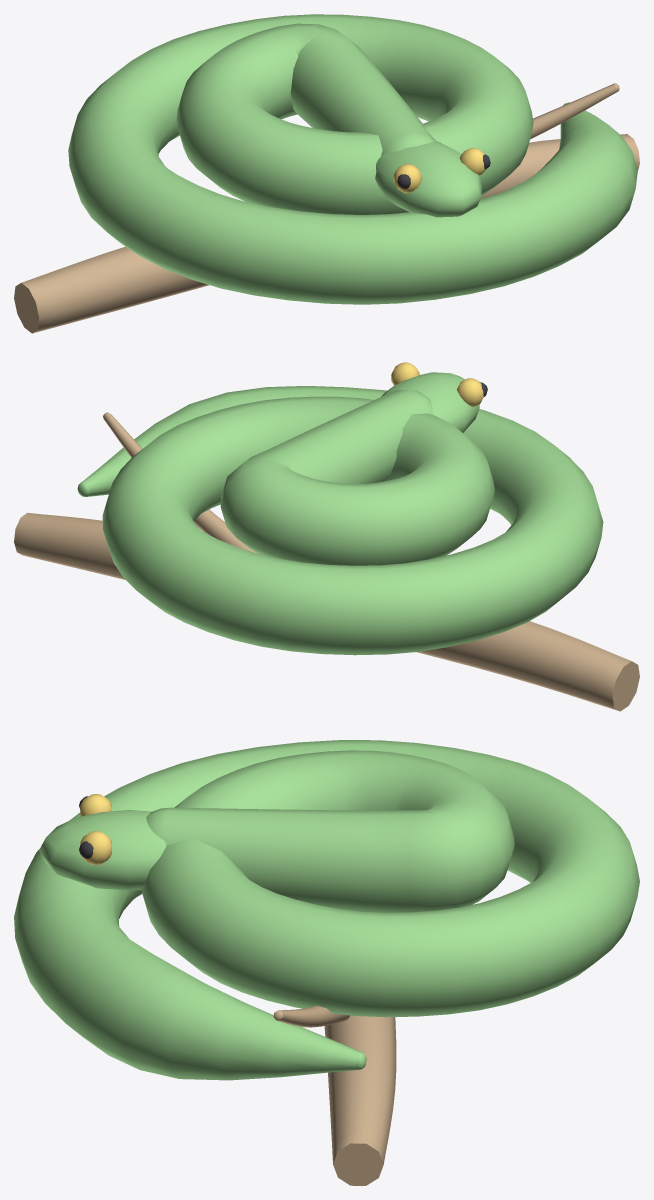
Rendered from reptiles-amphibians-and-minibeasts-green-mamba-on-bran-e0d000cf__22440.glb.
3 renders of one model, top to bottom at view 1: azimuth 30°, elevation 25°; view 2: azimuth 150°, elevation 25°; view 3: azimuth 270°, elevation 25°, orthographic. The views are drawn at different scales.
Visible parts, largest first — view 1: green-mamba-on-branch; view 2: green-mamba-on-branch; view 3: green-mamba-on-branch.
Boxes of the visible parts, x1,y1,x2,y2 form: green-mamba-on-branch: [14, 14, 639, 333]; green-mamba-on-branch: [14, 362, 639, 711]; green-mamba-on-branch: [14, 740, 639, 1185].
Size of the model in its own units: 0.7807 by 0.2411 by 0.6.
